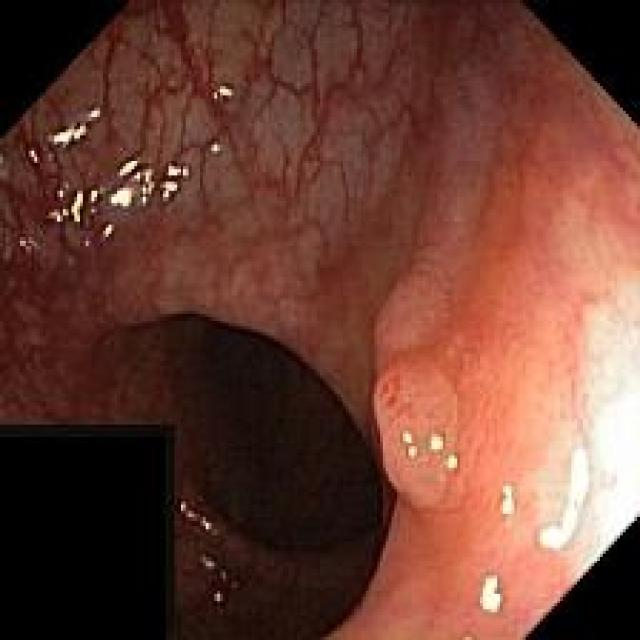Polyps: (374, 355, 458, 510), (375, 263, 451, 376)
